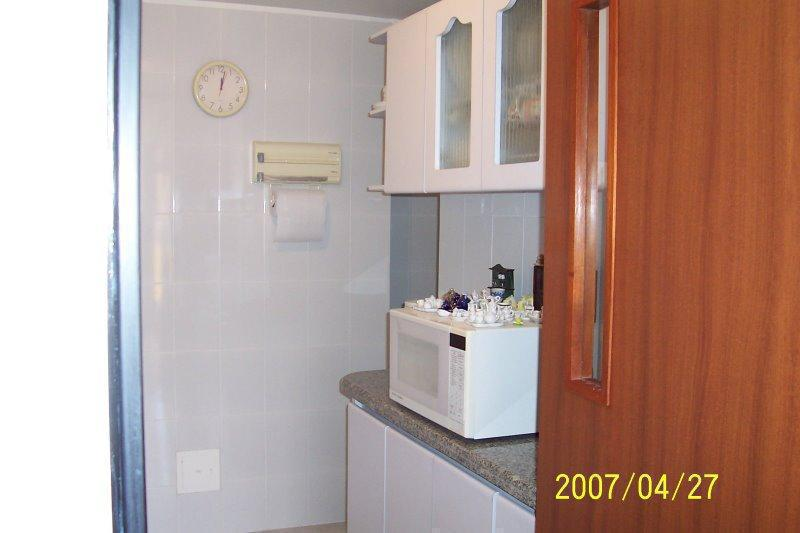Puerta: (549, 6, 796, 529)
